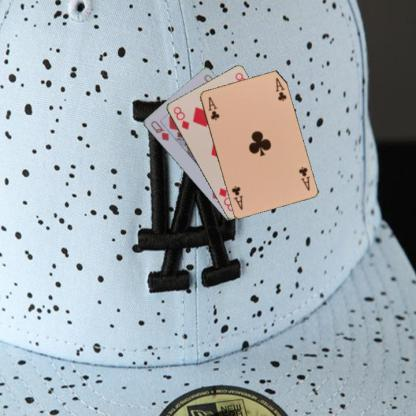8d: (171, 104, 190, 131)
Ac: (296, 164, 311, 192), (205, 95, 220, 122)
Qd: (148, 118, 170, 142)
